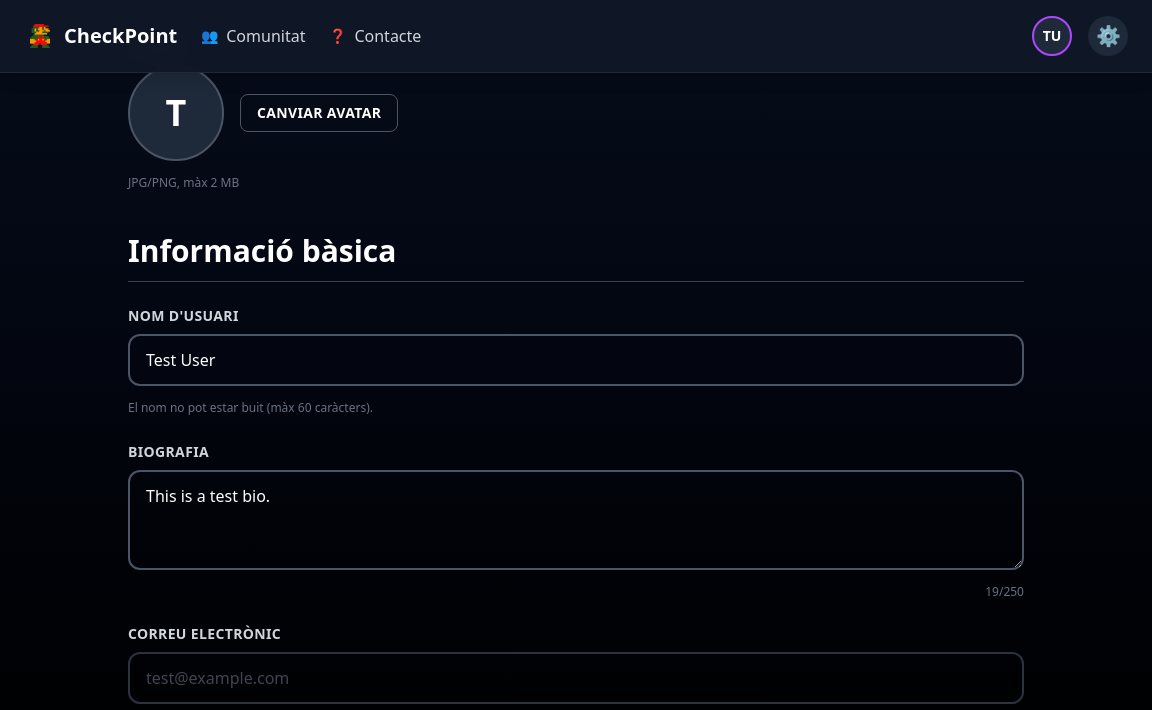
Test: Perfil.vue › shows error when save fails
The width and height of the screenshot is (1152, 710).
(page scrolled)
Replace the text in the field with id "name" with "A new name to trigger save" at (576, 360), box [128,334,1024,386]
(page scrolled)
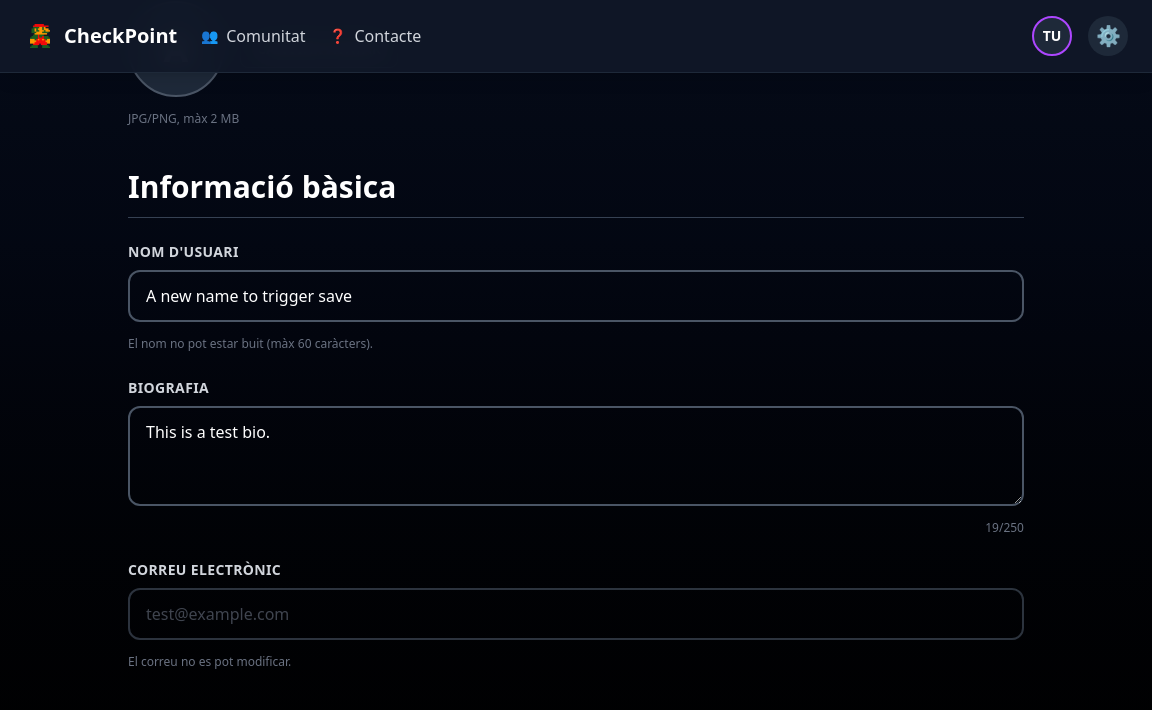
Submit the form
(page scrolled)
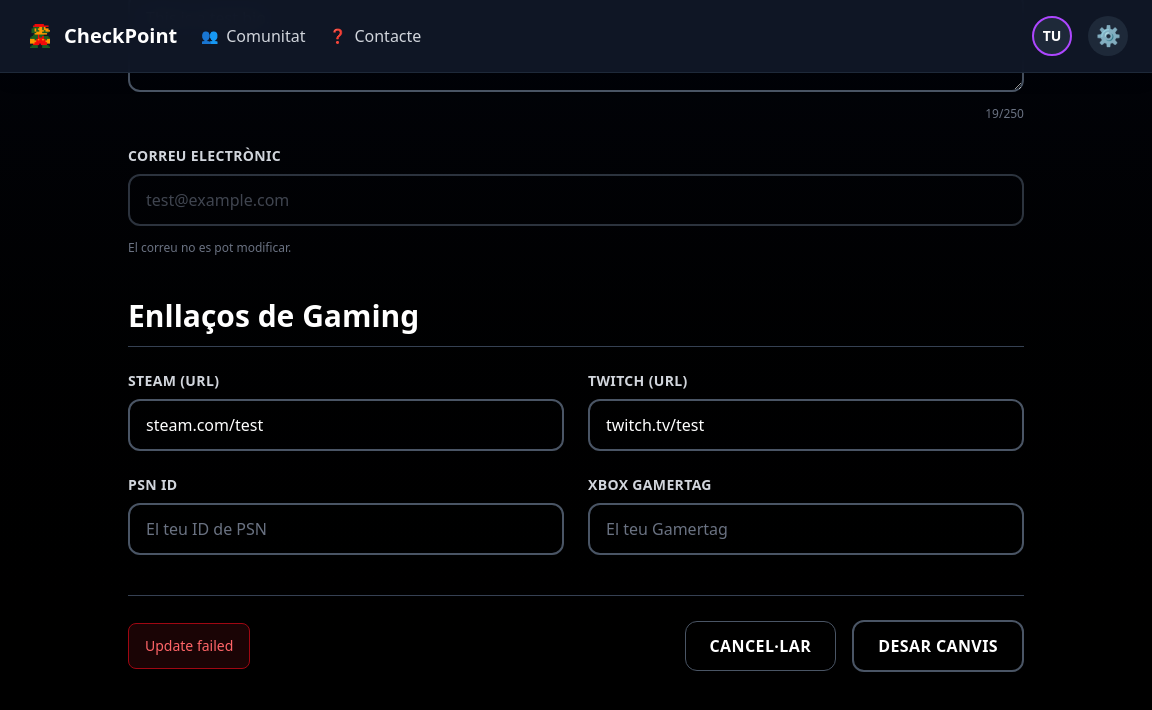
Now the text "Update failed" is shown, box [128,623,250,669]
